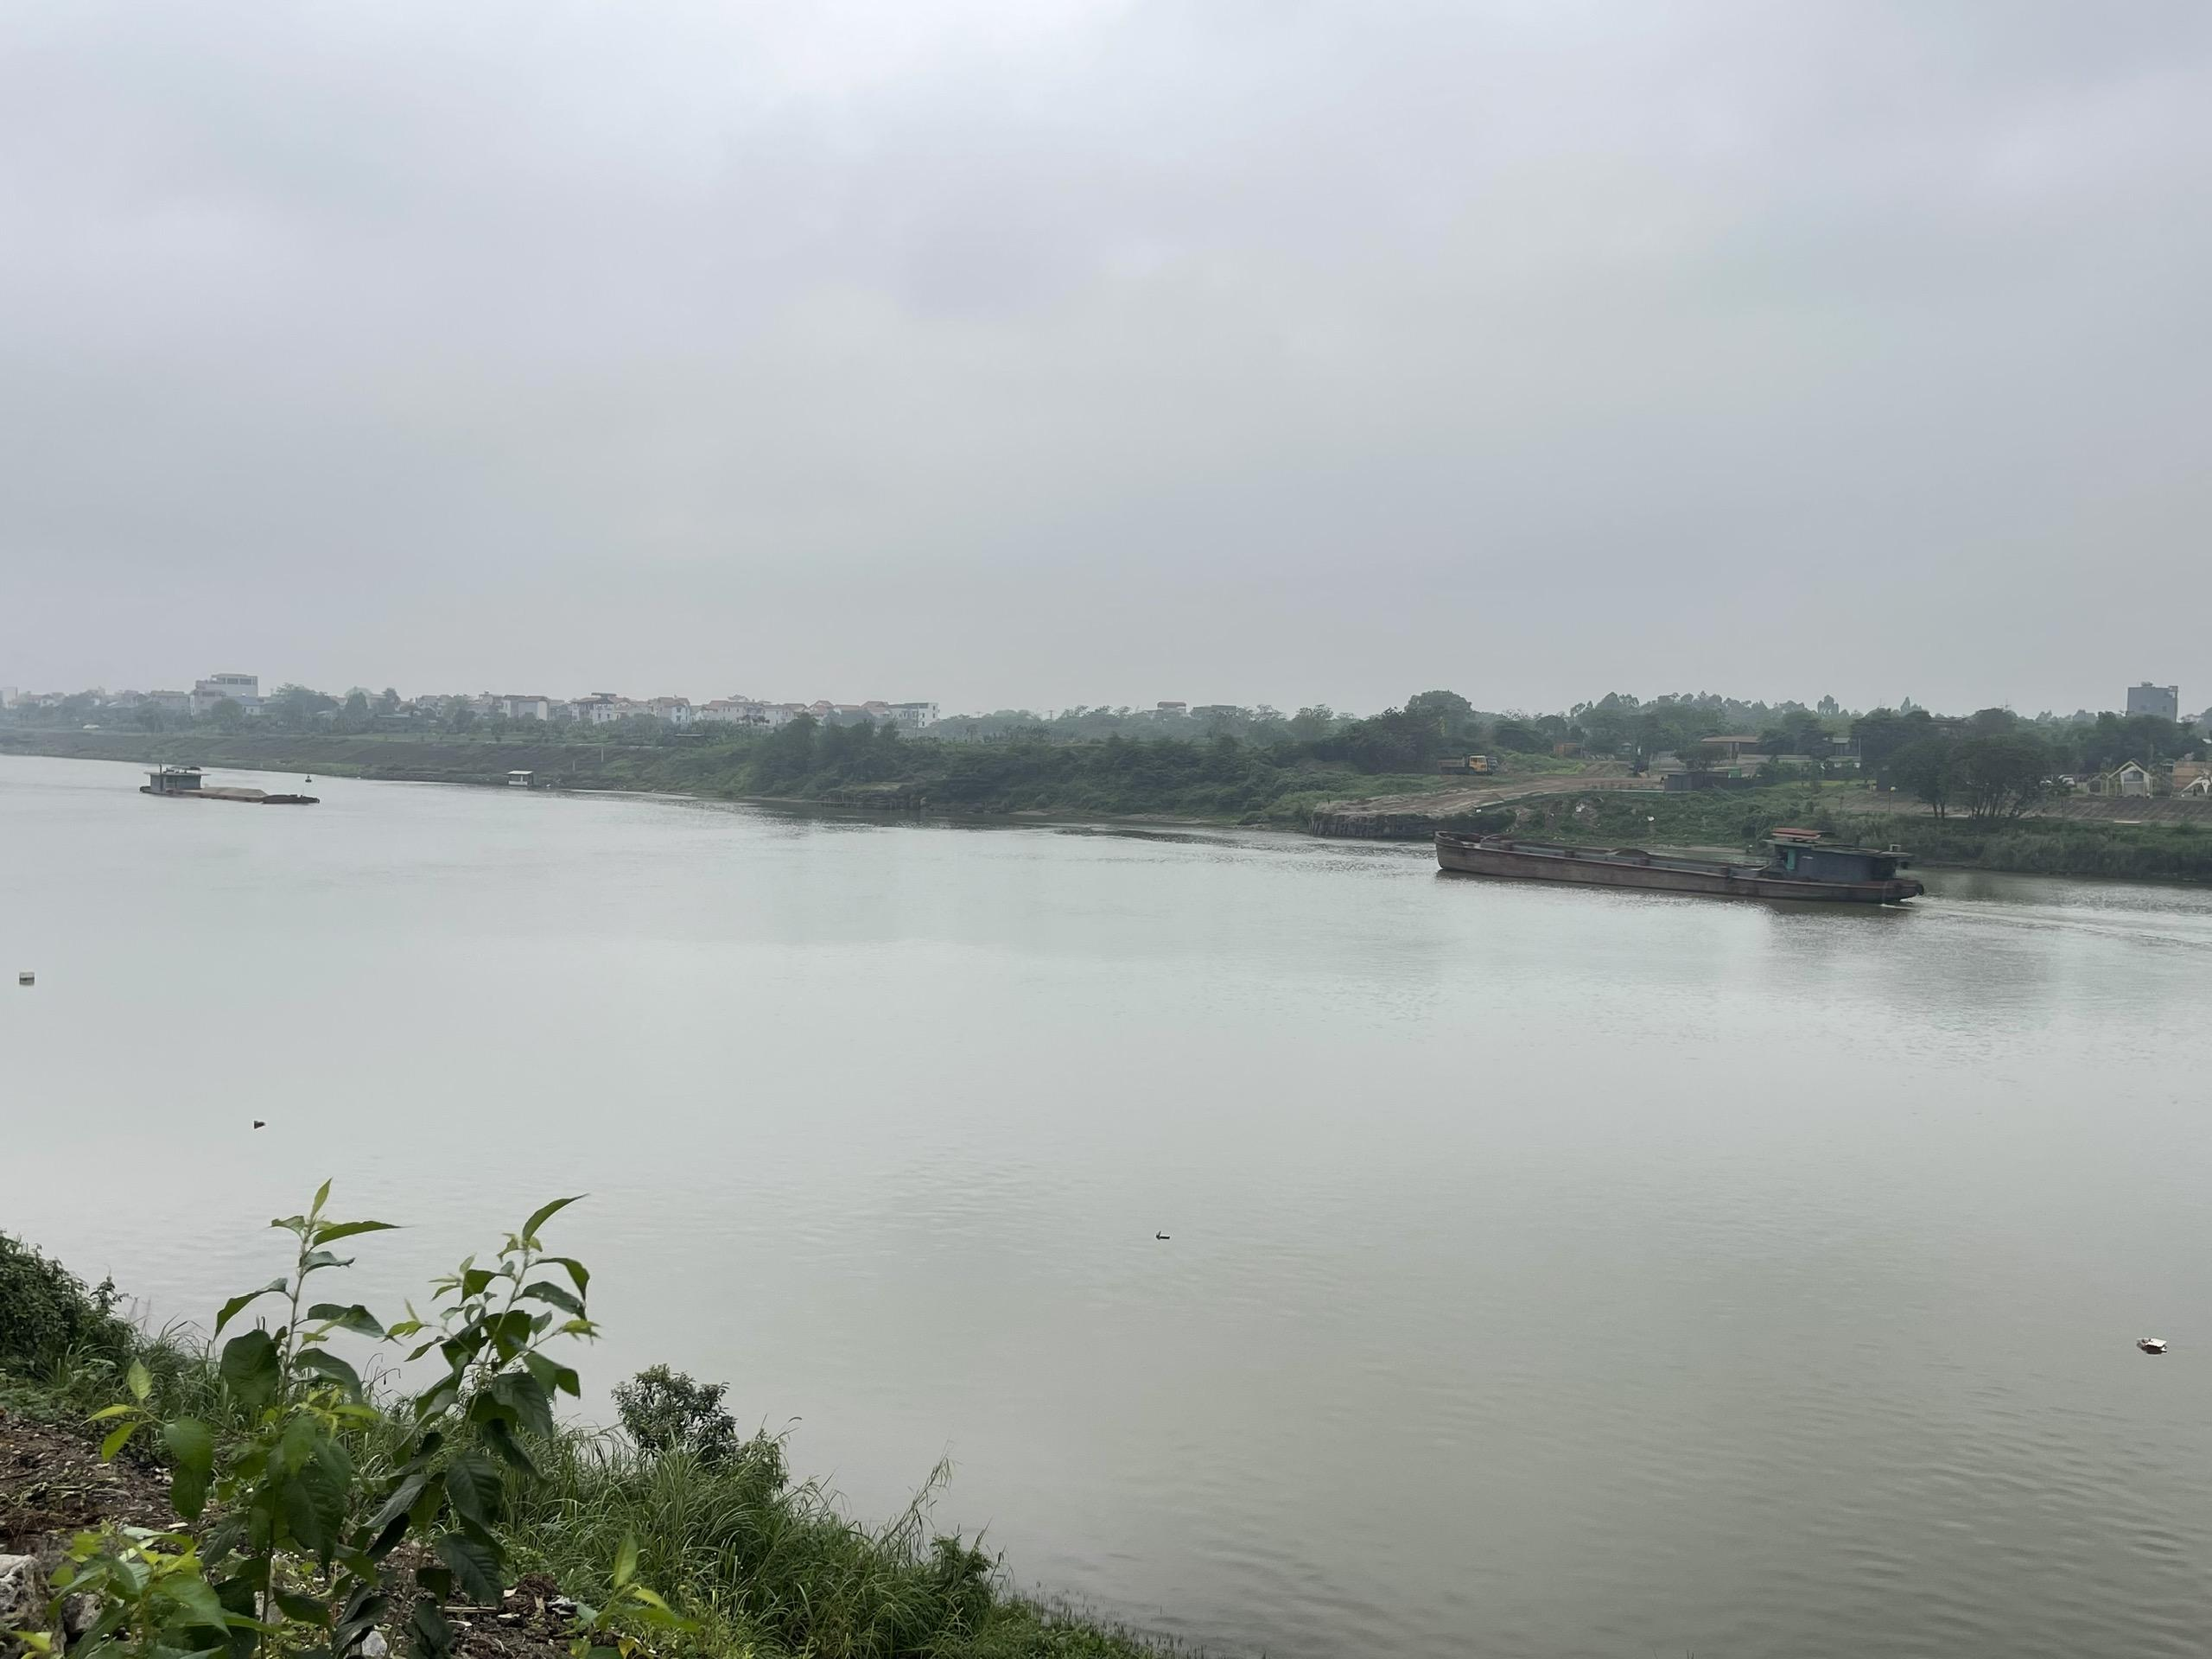Ship: (1433, 805, 1928, 924), (138, 760, 331, 816)
